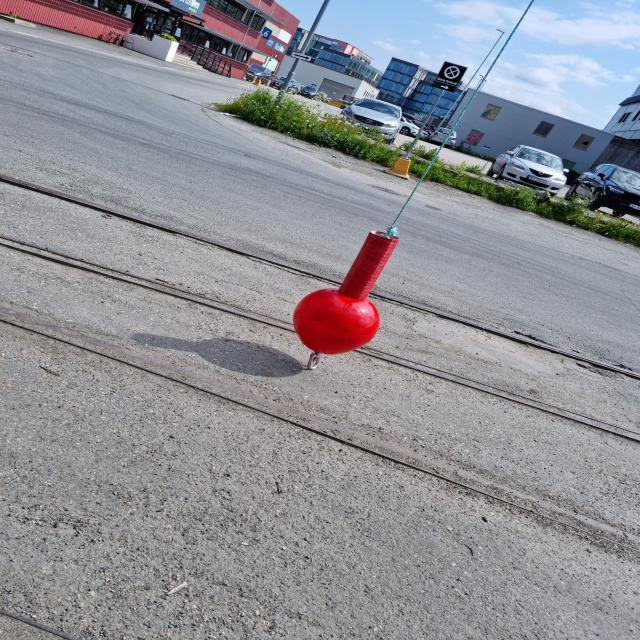red: (294, 232, 398, 354)
